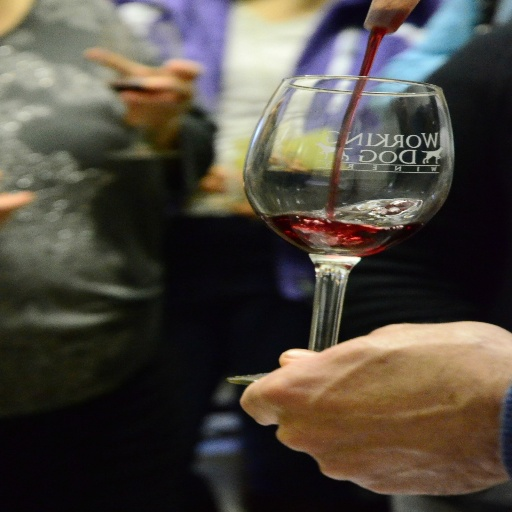hand: (238, 322, 511, 495), (91, 38, 219, 113), (0, 187, 34, 221)
